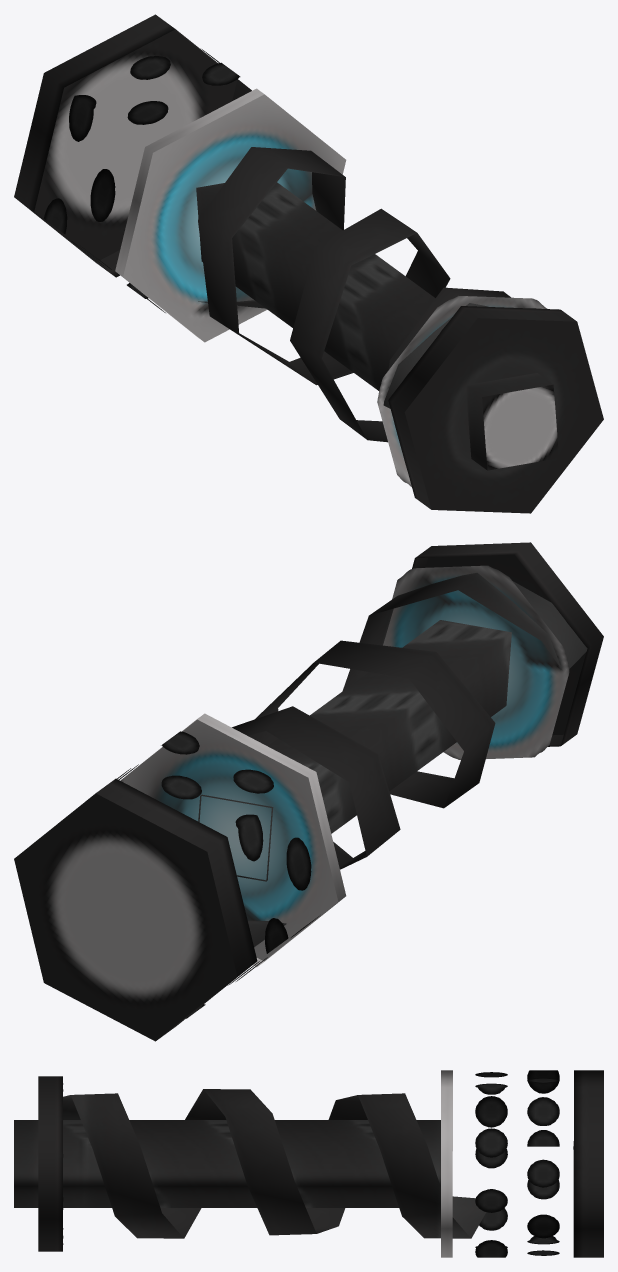
The model's file is obj_interactive_suspensionoffroad_04_off_lod1.fbx.
3 renders of one model, top to bottom at view 1: azimuth 30°, elevation 25°; view 2: azimuth 150°, elevation 25°; view 3: azimuth 270°, elevation 25°, orthographic. The views are drawn at different scales.
Visible parts, largest first — view 1: obj_interactive_suspensionoffroad_04_off_lod1; view 2: obj_interactive_suspensionoffroad_04_off_lod1; view 3: obj_interactive_suspensionoffroad_04_off_lod1.
Part boxes in pixels (x1=…): obj_interactive_suspensionoffroad_04_off_lod1: x1=14, y1=14, x2=603, y2=513; obj_interactive_suspensionoffroad_04_off_lod1: x1=14, y1=542, x2=603, y2=1041; obj_interactive_suspensionoffroad_04_off_lod1: x1=14, y1=1070, x2=603, y2=1257.
Size of the model in its own units: 1.02 by 1.02 by 3.13.
